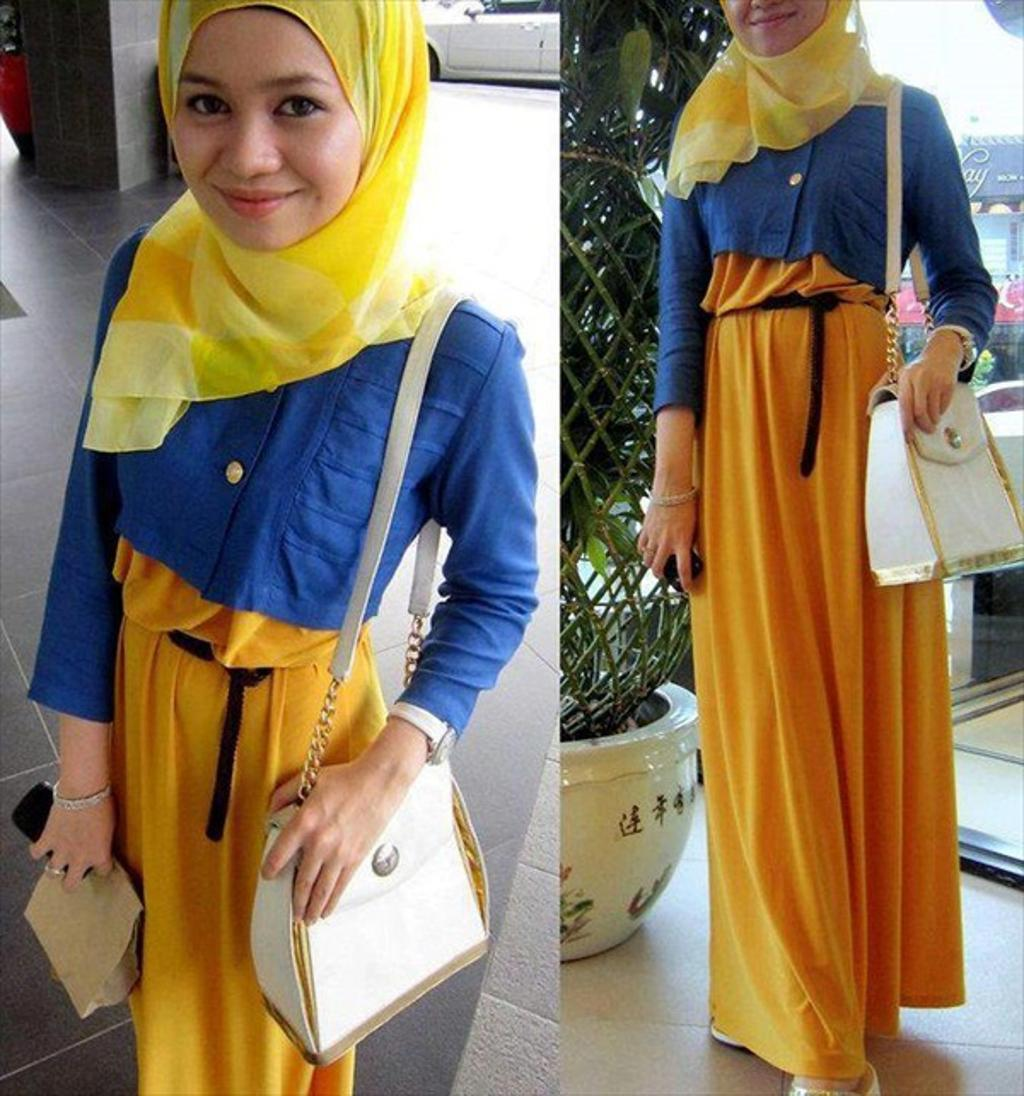face: (178, 10, 368, 256)
